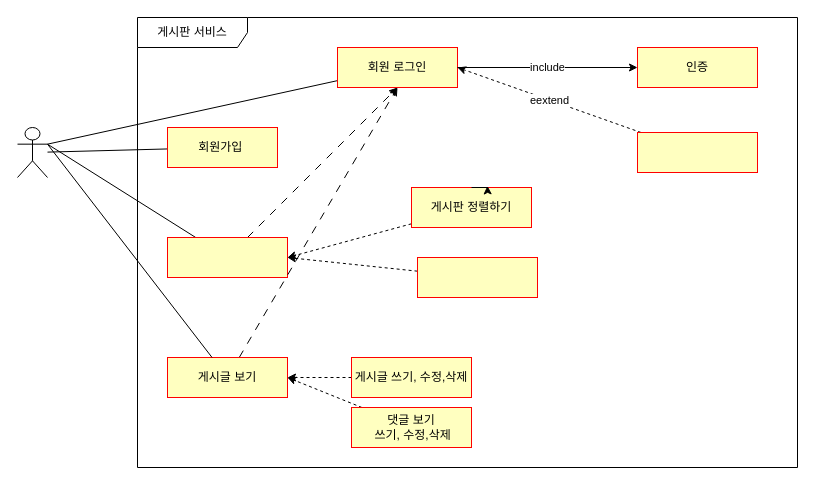
Some shapes in this 815 by 485 pixel diagram are drawn without their labels. Here are the shapes that lost their labels. From the top down, the centre of each, then its label:
At [32,152]: "Actor".
At [697,152]: "로그인 실패".
At [227,257]: "게시판 보기".
At [477,277]: "게시판 검색".
